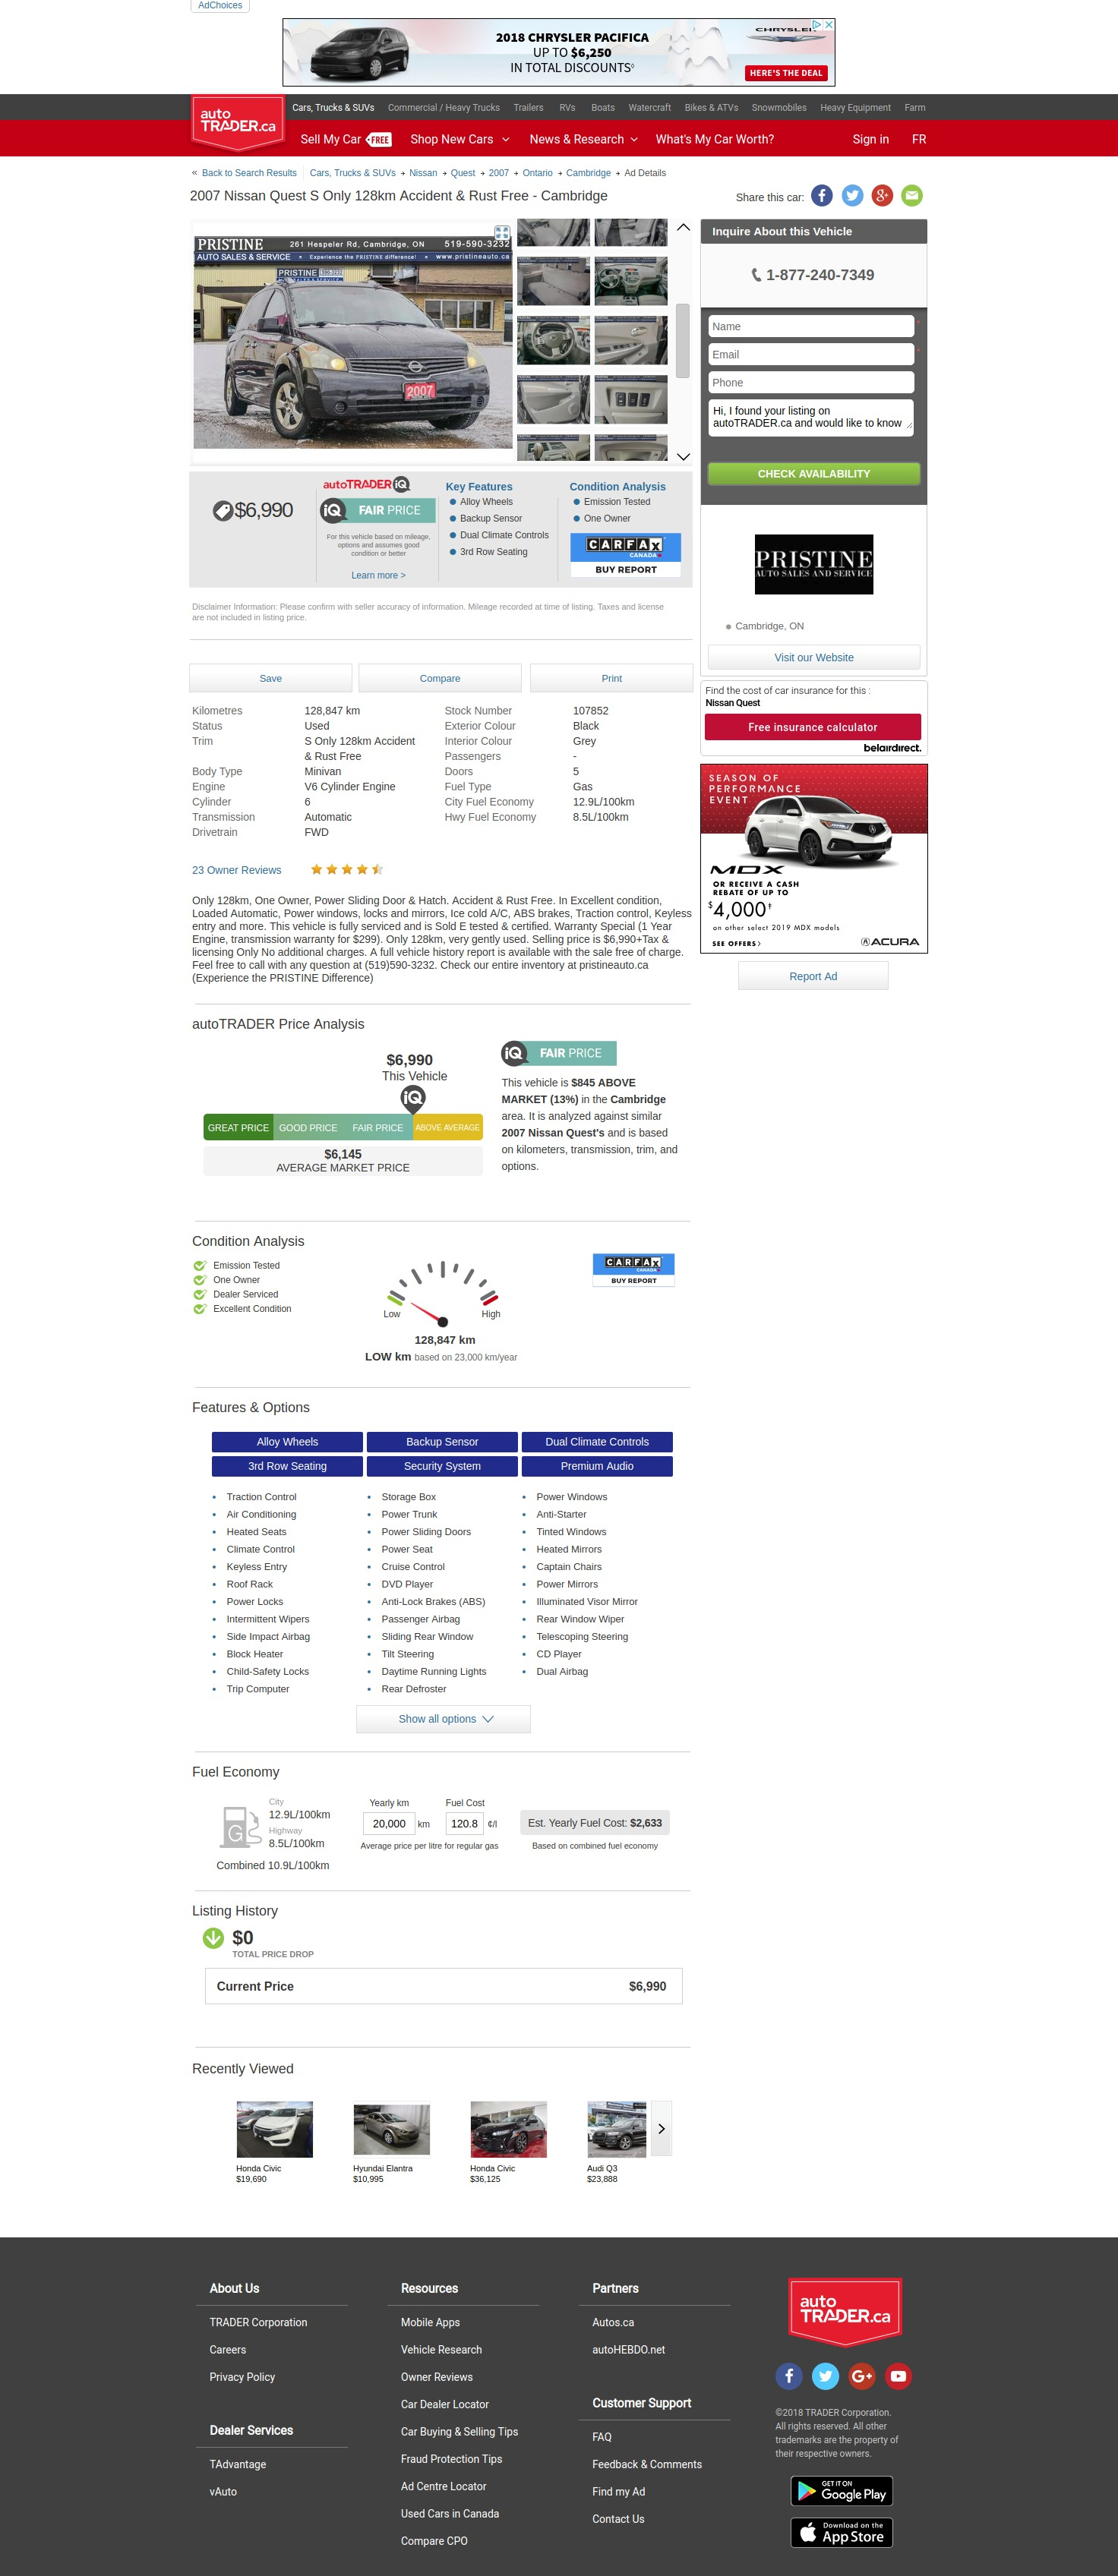car: (677, 453, 691, 462)
